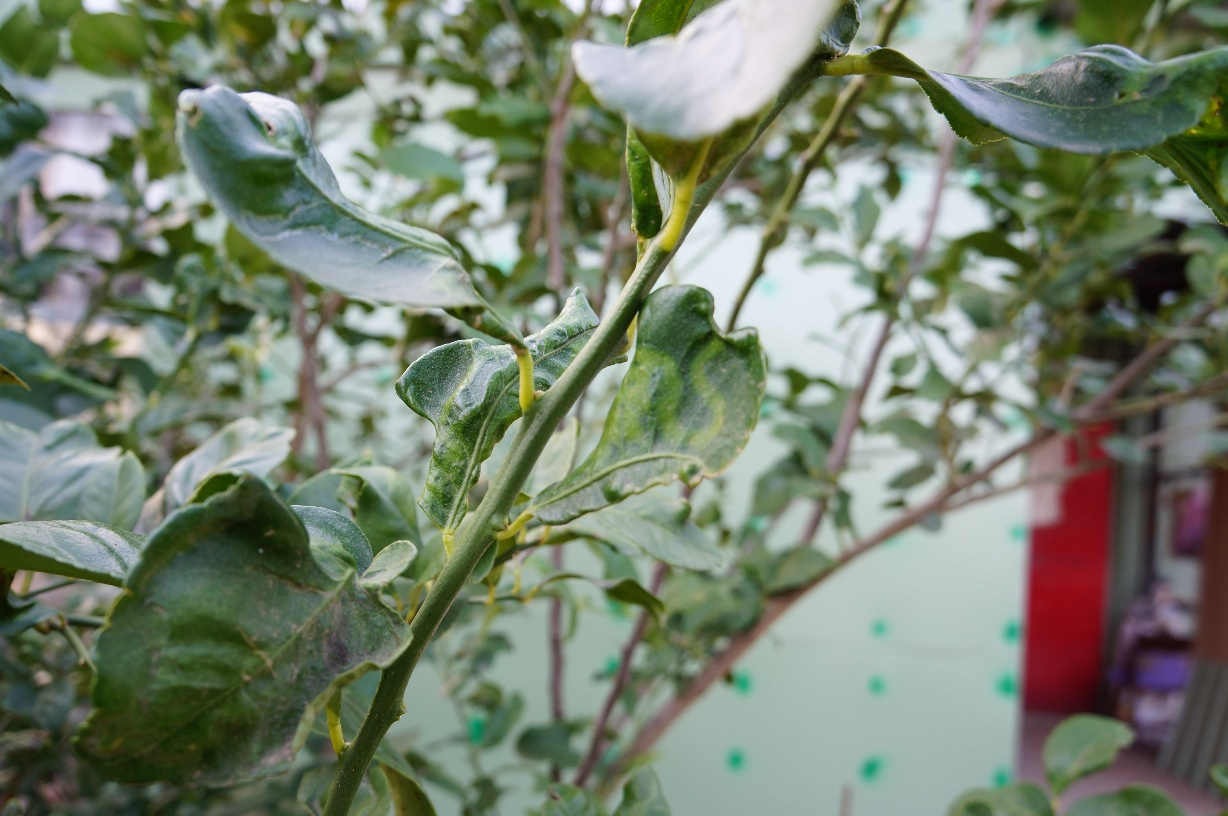curly: (378, 266, 641, 548), (515, 282, 776, 533)
